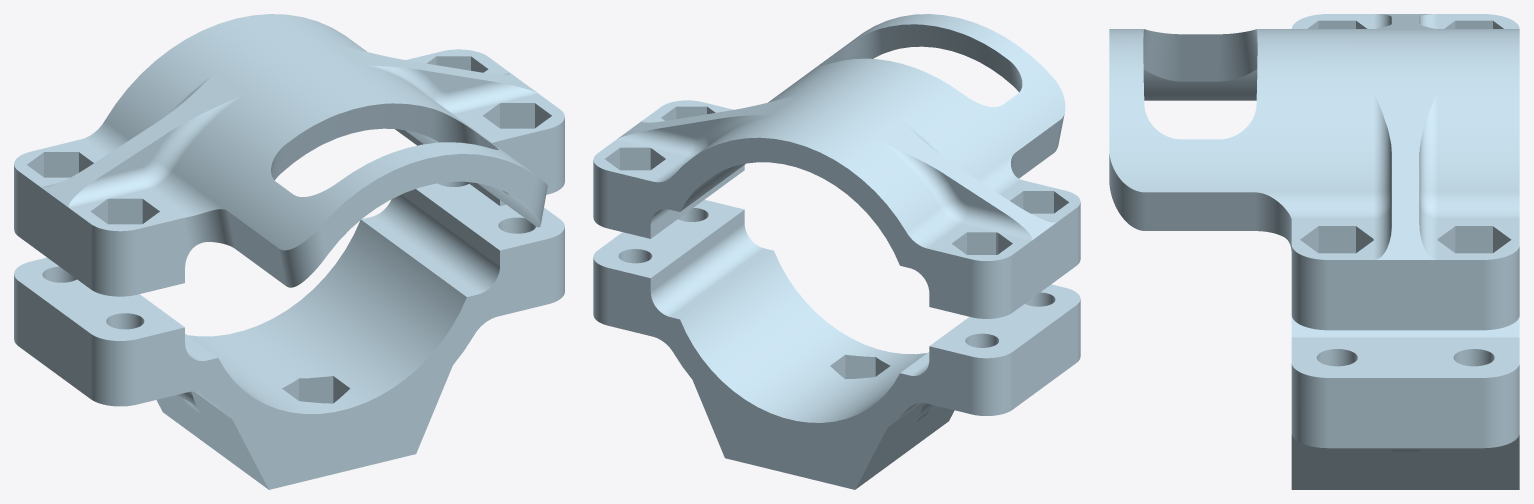
The model's file is Part Studio 1.gltf.
3 renders of one model, left to right at view 1: azimuth 30°, elevation 25°; view 2: azimuth 150°, elevation 25°; view 3: azimuth 270°, elevation 25°, orthographic. The views are drawn at different scales.
Visible parts, largest first — view 1: Part 1, Part 2; view 2: Part 1, Part 2; view 3: Part 1, Part 2.
Part boxes in pixels (box(x1,y1,x2,y2)): Part 1: box(14, 14, 564, 296); Part 2: box(14, 181, 564, 489); Part 1: box(593, 14, 1080, 318); Part 2: box(593, 199, 1080, 489); Part 1: box(1109, 14, 1519, 330); Part 2: box(1291, 316, 1519, 489).
Bounding box in the file's own units: 0.0638 × 0.0488 × 0.045.
